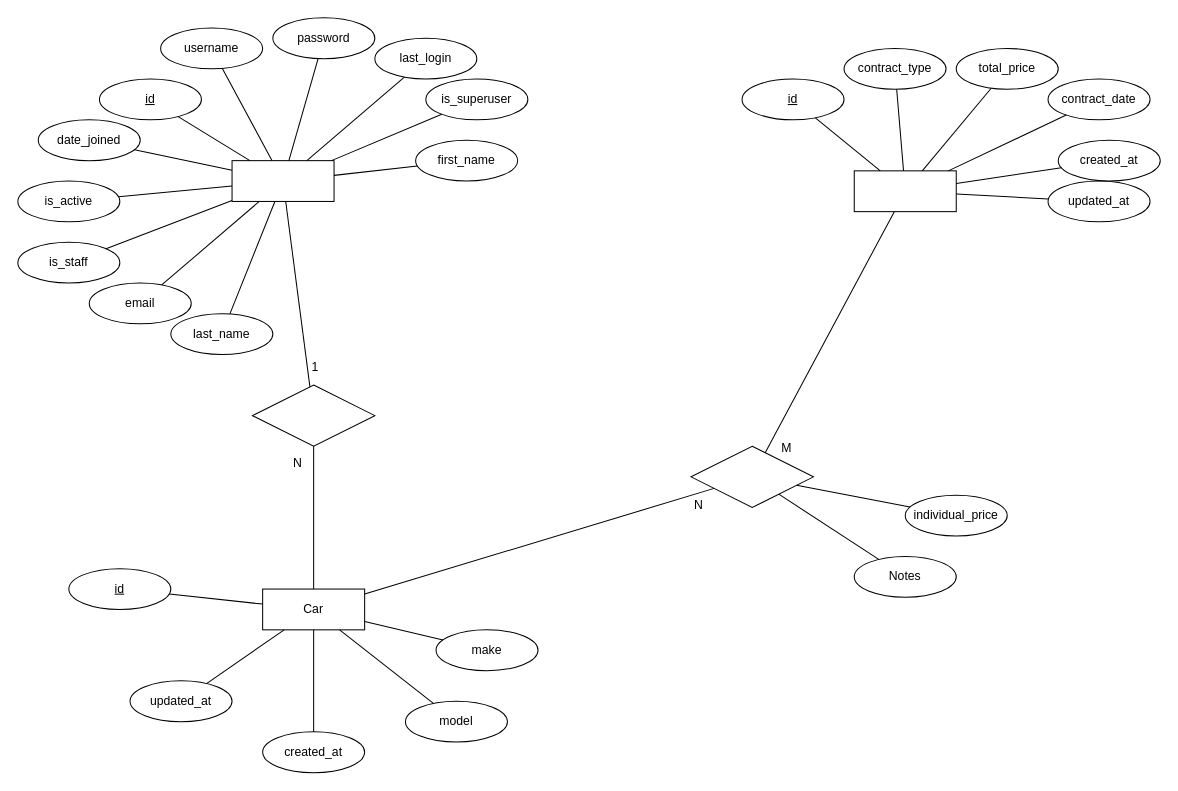
Image size: 1178x791. Some labels were removed from this diagram. The shapes that lost their labels are listed below. From the top down, each one's centre as x and y in pixels, then its label:
(x=282, y=180): User
(x=904, y=191): Contract
(x=313, y=415): Has
(x=751, y=476): Exist
